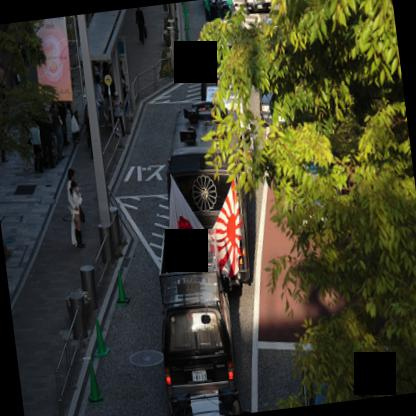handbag: (78, 202, 85, 223)
